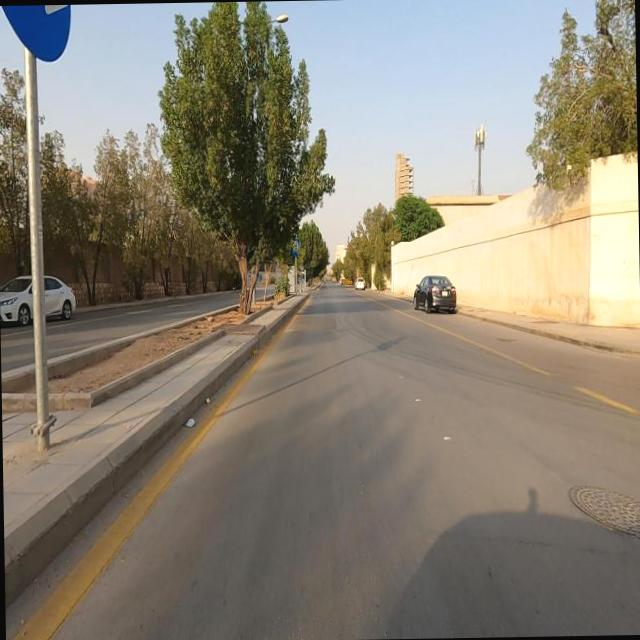debris: (154, 356, 240, 465)
